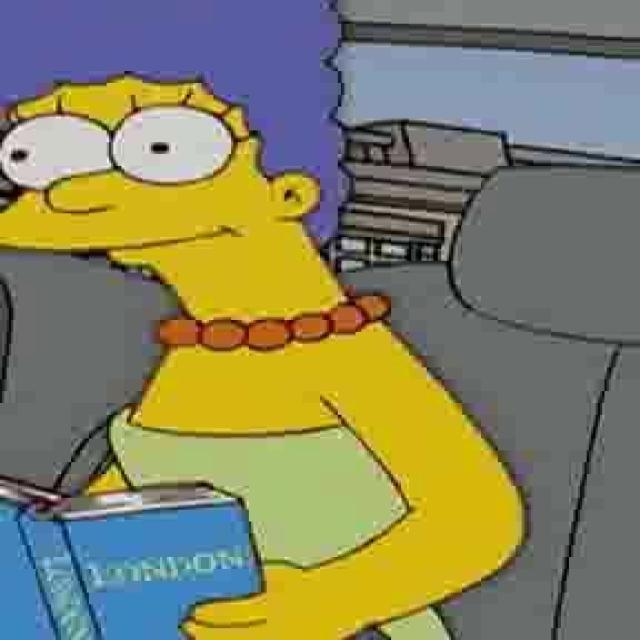Marge Simpson: (0, 1, 396, 358)
